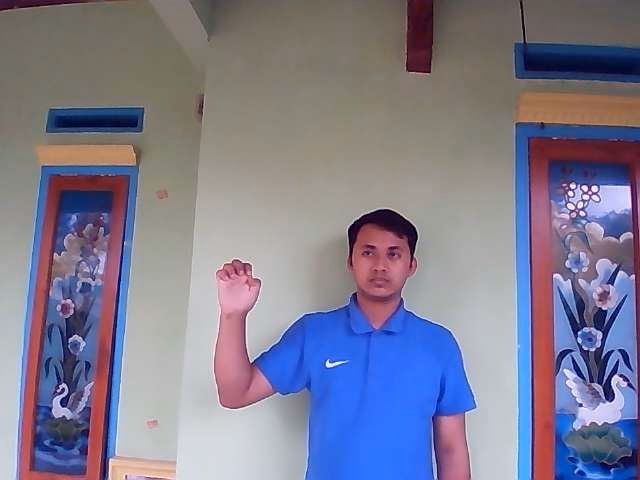E: (215, 258, 262, 314)
